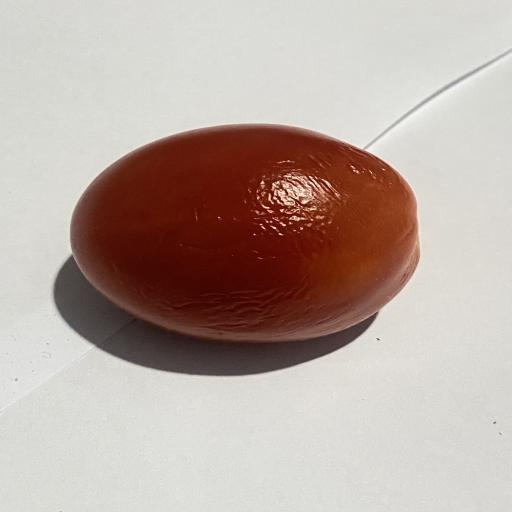spoiled: (71, 124, 419, 342)
